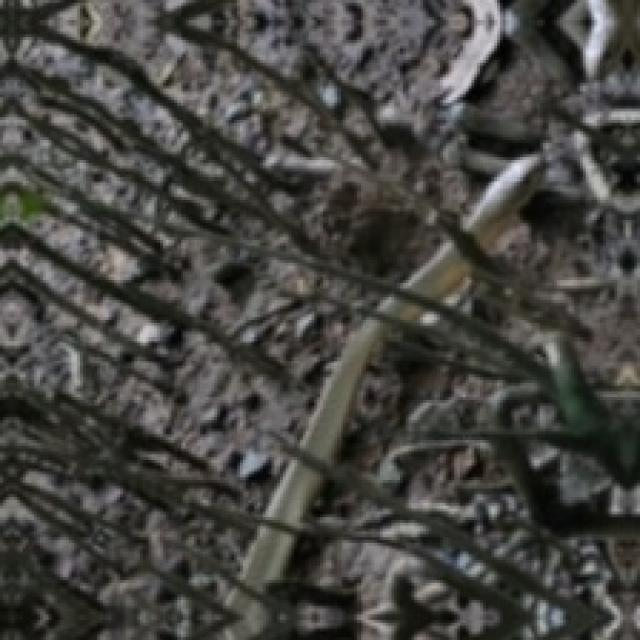king cobra: (0, 0, 637, 637), (297, 314, 389, 463), (457, 149, 546, 251)
